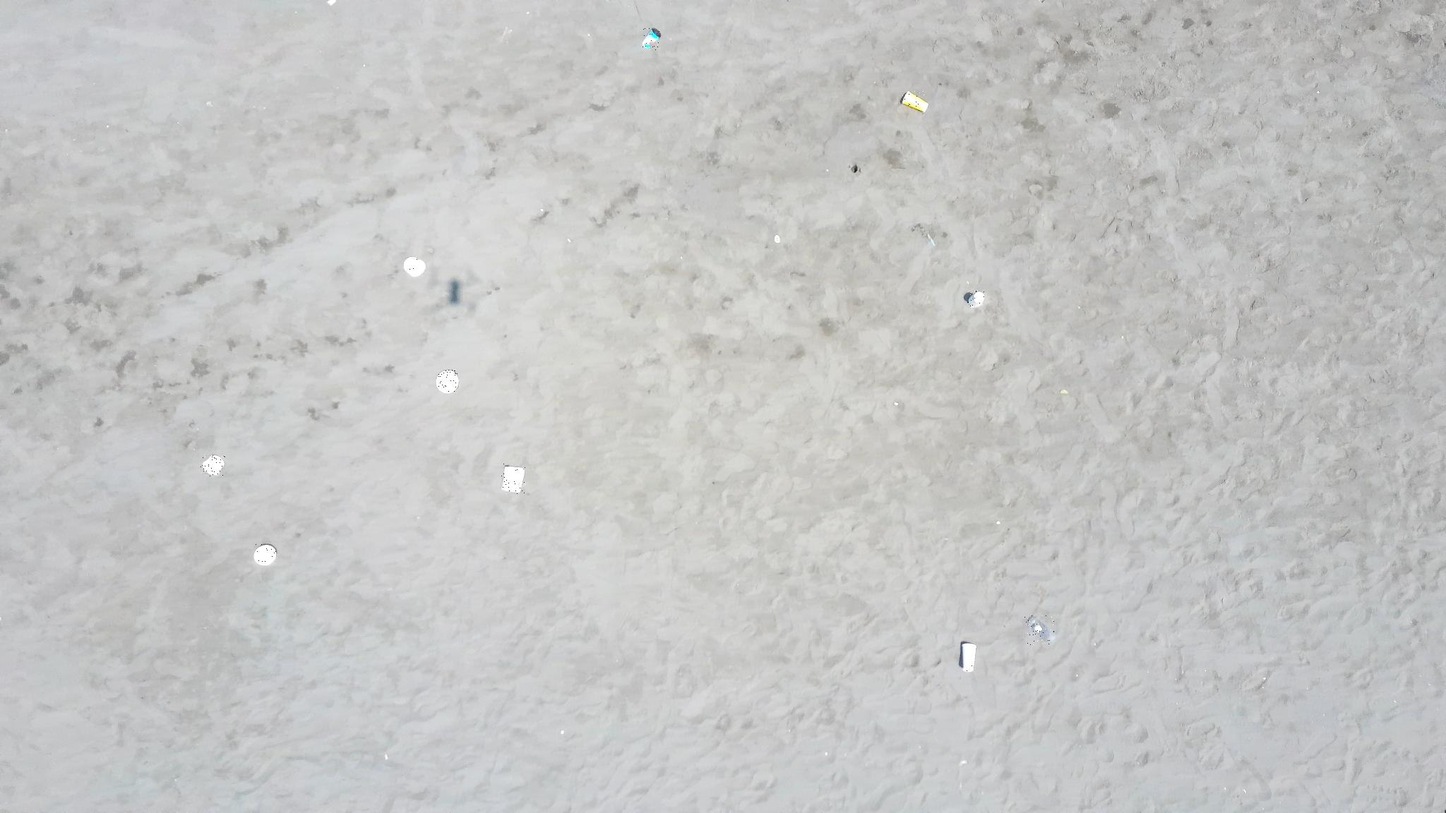Garbage: (1026, 615, 1053, 643), (436, 369, 458, 394), (503, 466, 523, 491), (901, 92, 926, 112), (253, 543, 276, 564), (201, 455, 224, 476), (959, 641, 975, 670), (403, 256, 425, 276), (963, 291, 985, 306), (643, 28, 659, 48), (449, 281, 458, 303), (926, 233, 935, 246), (852, 164, 859, 172), (326, 0, 335, 5), (1058, 389, 1068, 393), (775, 234, 779, 243)
